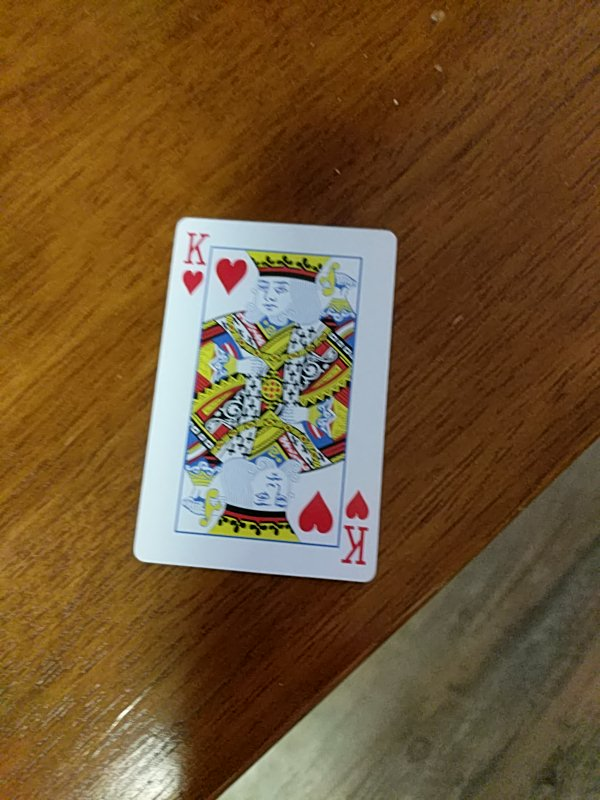Hearts: (131, 218, 397, 584)
